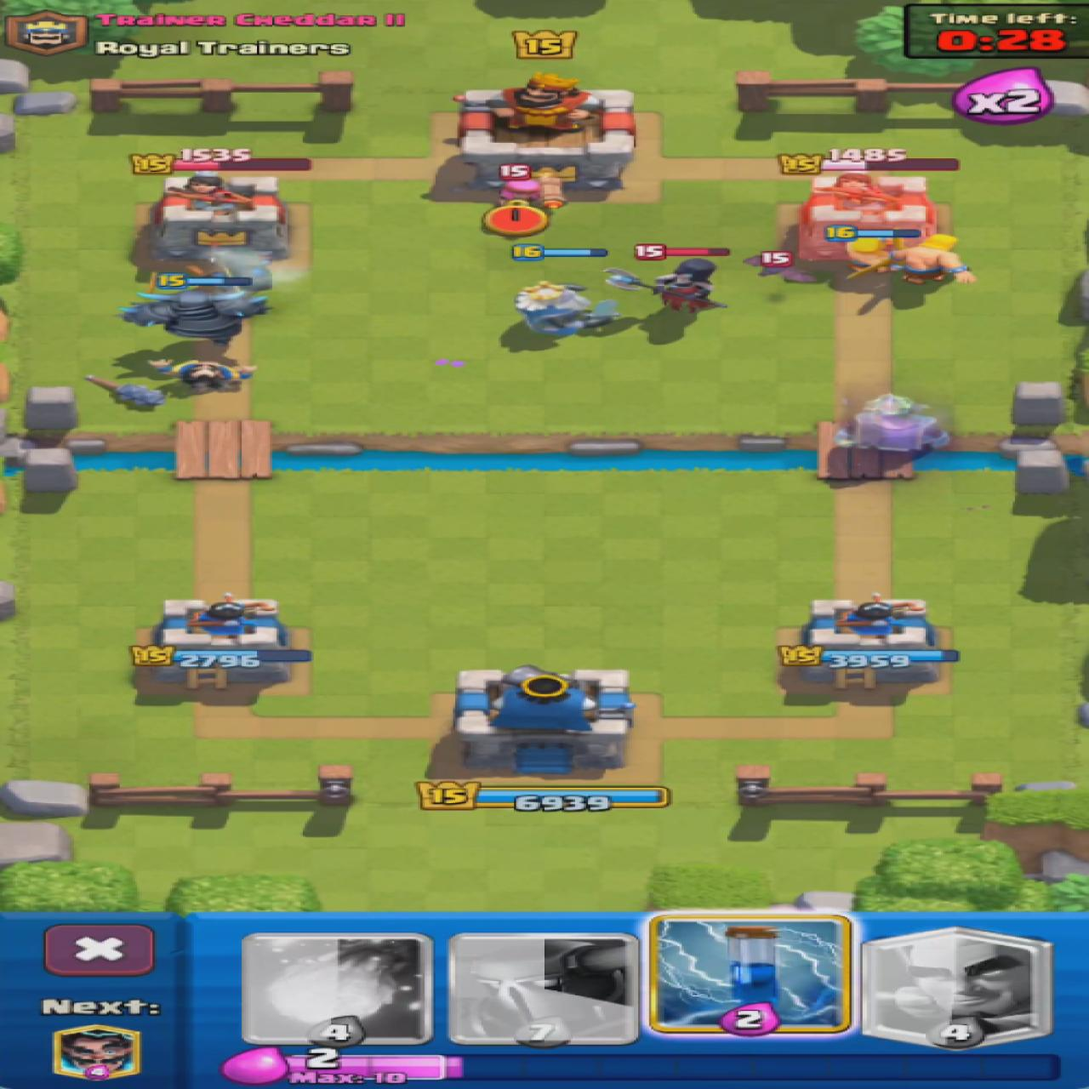Enemy-Firecracker: (495, 177, 569, 210)
Enemy-KingTower: (460, 73, 636, 196)
Enemy-NightWitch: (600, 258, 730, 315)
Enemy-PrincessTower: (792, 174, 941, 261), (148, 176, 290, 260)
